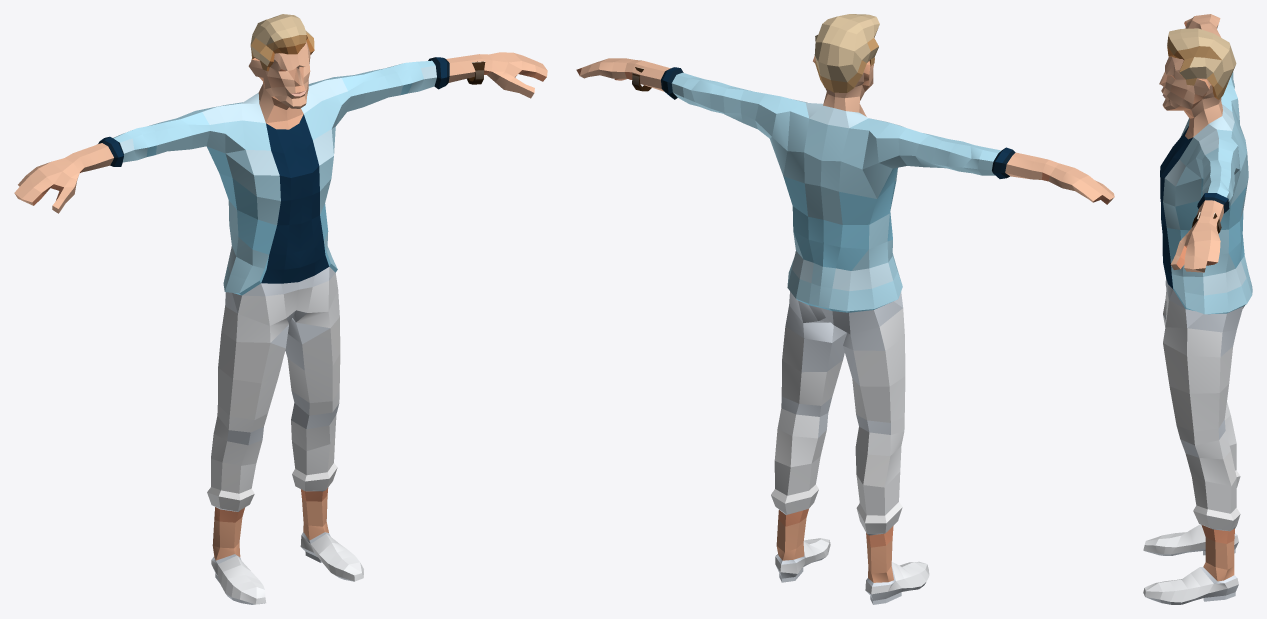
Rendered from night_Male_B-model.obj.
3 renders of one model, left to right at view 1: azimuth 30°, elevation 25°; view 2: azimuth 150°, elevation 25°; view 3: azimuth 270°, elevation 25°, orthographic. The views are drawn at different scales.
Visible parts, largest first — view 1: night_Male_B, acc_men_hair_brown; view 2: night_Male_B, acc_men_hair_brown; view 3: night_Male_B, acc_men_hair_brown.
Boxes of the visible parts, <box> form: night_Male_B: <box>14,41,547,604</box>; acc_men_hair_brown: <box>250,14,314,71</box>; night_Male_B: <box>576,56,1114,604</box>; acc_men_hair_brown: <box>814,14,879,92</box>; night_Male_B: <box>1143,14,1252,604</box>; acc_men_hair_brown: <box>1167,28,1236,99</box>.
Bounding box in the file's own units: 182 × 183 × 33.5.
